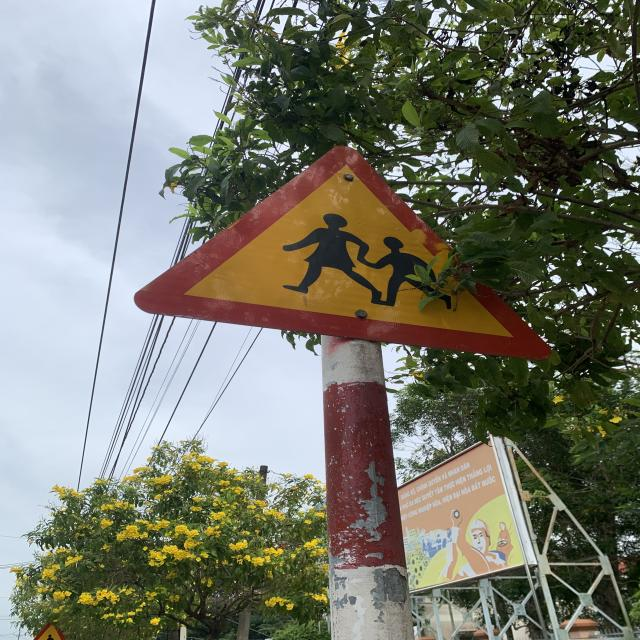Vong_Xuyen: (124, 140, 544, 360)
